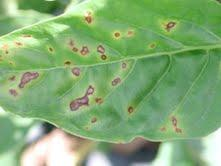Bell_pepper leaf: (1, 2, 213, 144)
